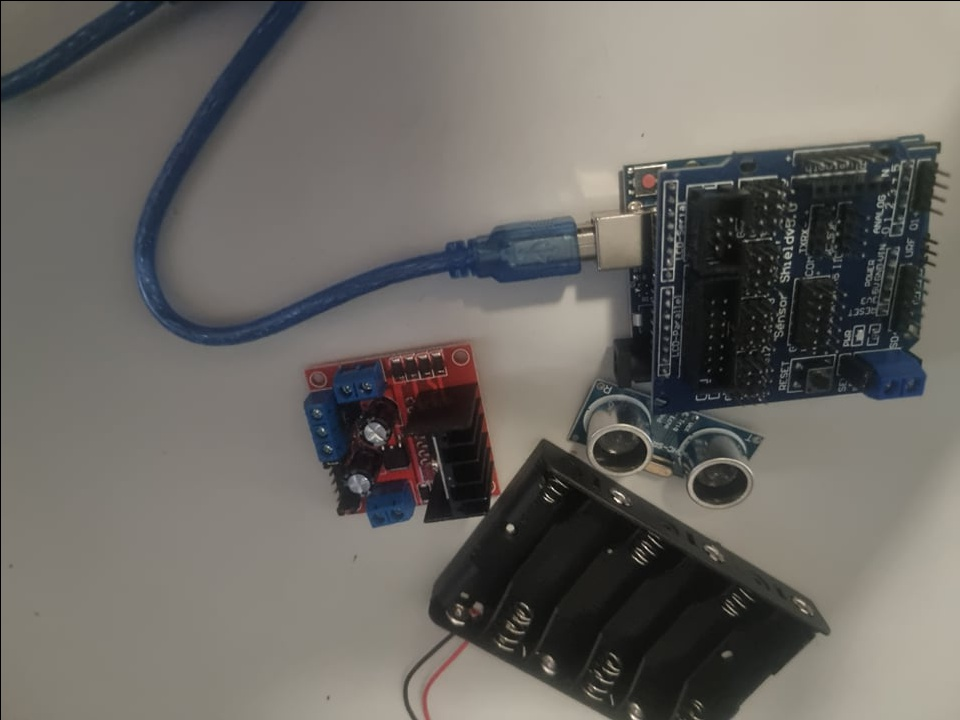5V EXPANSION: (652, 154, 945, 402)
BATTERY BOX: (422, 436, 840, 719)
MOTOR: (298, 343, 501, 515)
SENSOR: (564, 381, 765, 504)
UNO R3: (589, 157, 654, 385)
